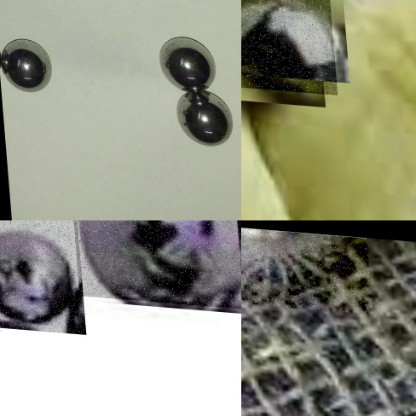ironball: (66, 220, 241, 303), (241, 220, 371, 310), (0, 220, 82, 331), (241, 0, 333, 92), (0, 31, 54, 97), (175, 90, 230, 148), (161, 35, 217, 91)
